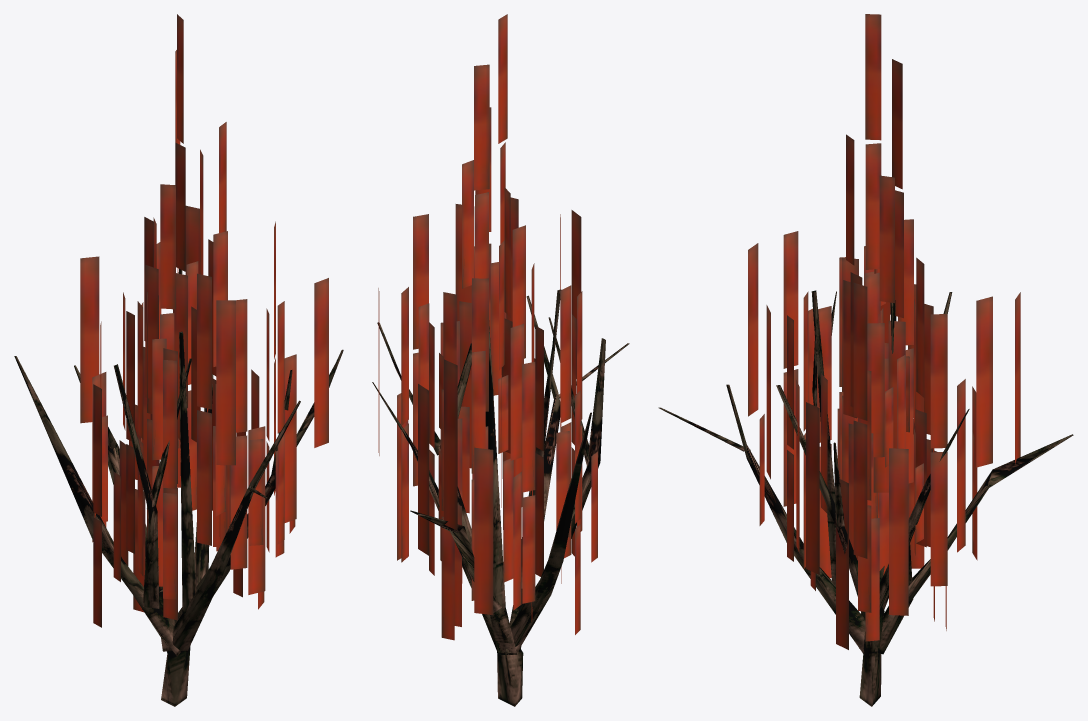
Rendered from RedTree_2.gltf.
3 views of the same model, side by side, from view 1: azimuth 30°, elevation 25°; view 2: azimuth 150°, elevation 25°; view 3: azimuth 270°, elevation 25° (orthographic).
Parts seen in each view (by area): view 1: RedTree_2; view 2: RedTree_2; view 3: RedTree_2.
Part boxes in pixels (box(x1,y1,x2,y2)): RedTree_2: box(14, 14, 343, 706); RedTree_2: box(372, 14, 629, 706); RedTree_2: box(658, 14, 1073, 706).
Bounding box in the file's own units: 1.64 × 3.95 × 2.16.
Materials: 89 (89 with a texture image).
